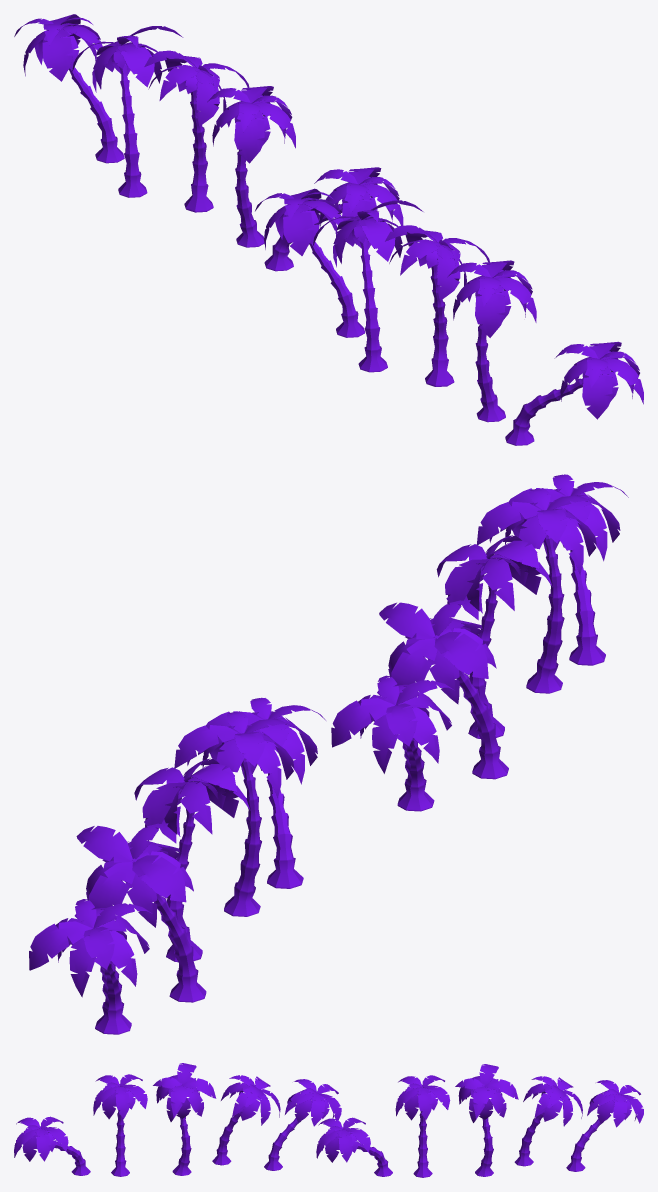
The model's file is treepurple.glb.
3 views of the same model, one above another, from view 1: azimuth 30°, elevation 25°; view 2: azimuth 150°, elevation 25°; view 3: azimuth 270°, elevation 25° (orthographic). The views are drawn at different scales.
Visible parts, largest first — view 1: uploads_files_2450506_Palm_Tree, uploads_files_2450506_Palm_Tree.001; view 2: uploads_files_2450506_Palm_Tree, uploads_files_2450506_Palm_Tree.001; view 3: uploads_files_2450506_Palm_Tree.001, uploads_files_2450506_Palm_Tree.
Part boxes in pixels (<box>): uploads_files_2450506_Palm_Tree: <box>255,188,643,445</box>; uploads_files_2450506_Palm_Tree.001: <box>14,14,403,271</box>; uploads_files_2450506_Palm_Tree: <box>331,474,628,811</box>; uploads_files_2450506_Palm_Tree.001: <box>29,697,325,1034</box>; uploads_files_2450506_Palm_Tree.001: <box>316,1064,643,1177</box>; uploads_files_2450506_Palm_Tree: <box>14,1063,341,1176</box>.
Size of the model in its own units: 19.34 by 18.69 by 107.
